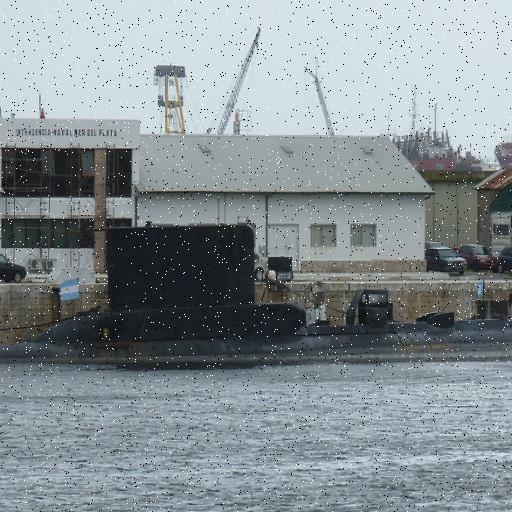submarine: (1, 216, 512, 371)
